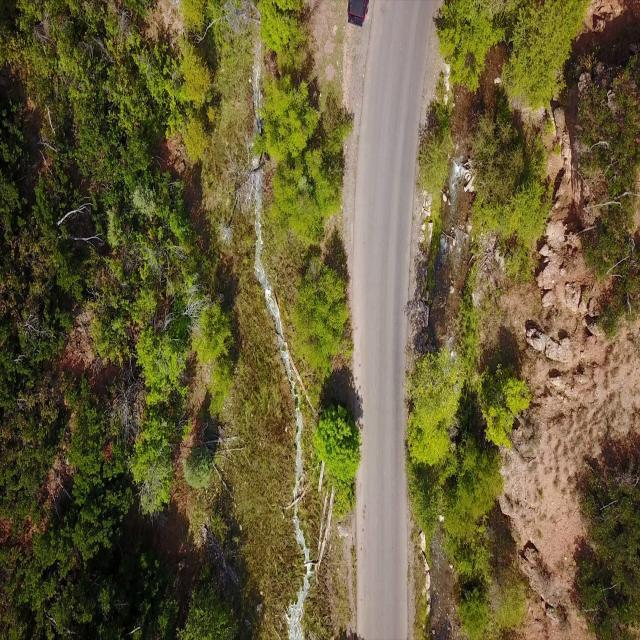vehicle: (348, 1, 370, 27)
